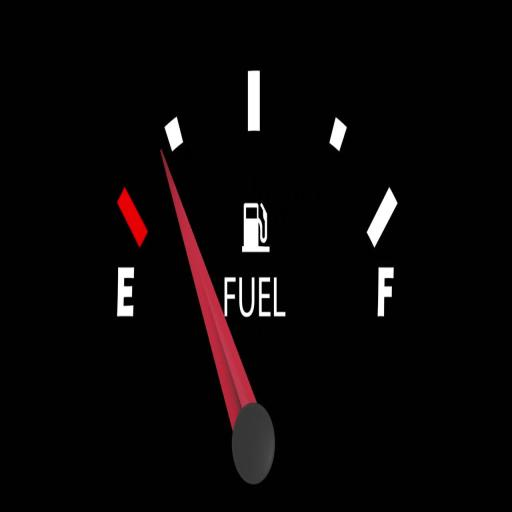empty: (114, 260, 137, 323)
fuel_icon: (242, 192, 271, 260)
full: (375, 264, 397, 321)
guage_area: (110, 67, 404, 497)
needle_center: (224, 391, 279, 491)
needle_tip: (160, 146, 176, 209)
